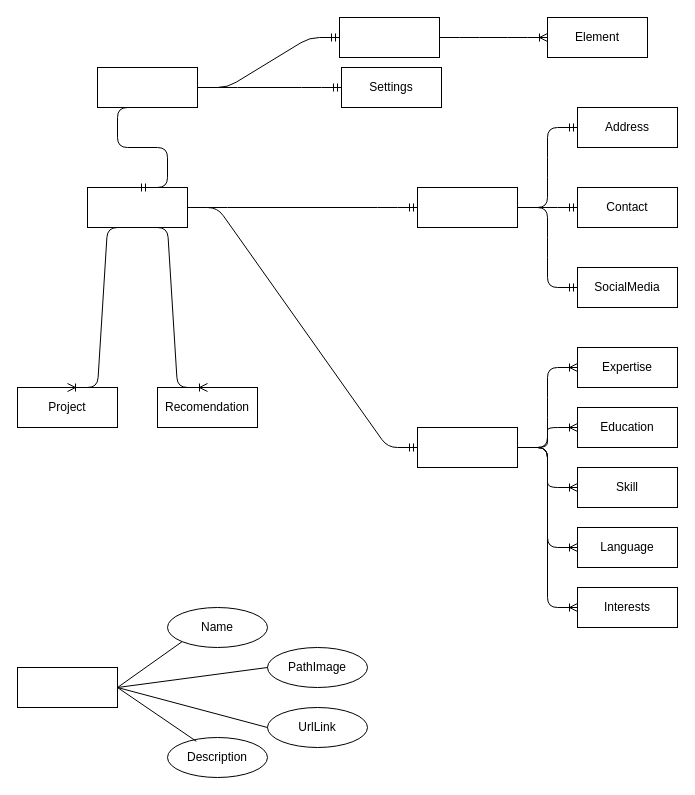
Some shapes in this 695 by 795 pixel diagram are drawn without their labels. The centre of each missing label's shape, as x and y in pixels:
"Menu" belongs at point (389, 37).
"ObjCommon" belongs at point (67, 687).
"Perfil" belongs at point (467, 447).
"PersonalData" belongs at point (467, 207).
"User" belongs at point (137, 207).
"Web" belongs at point (147, 87).
